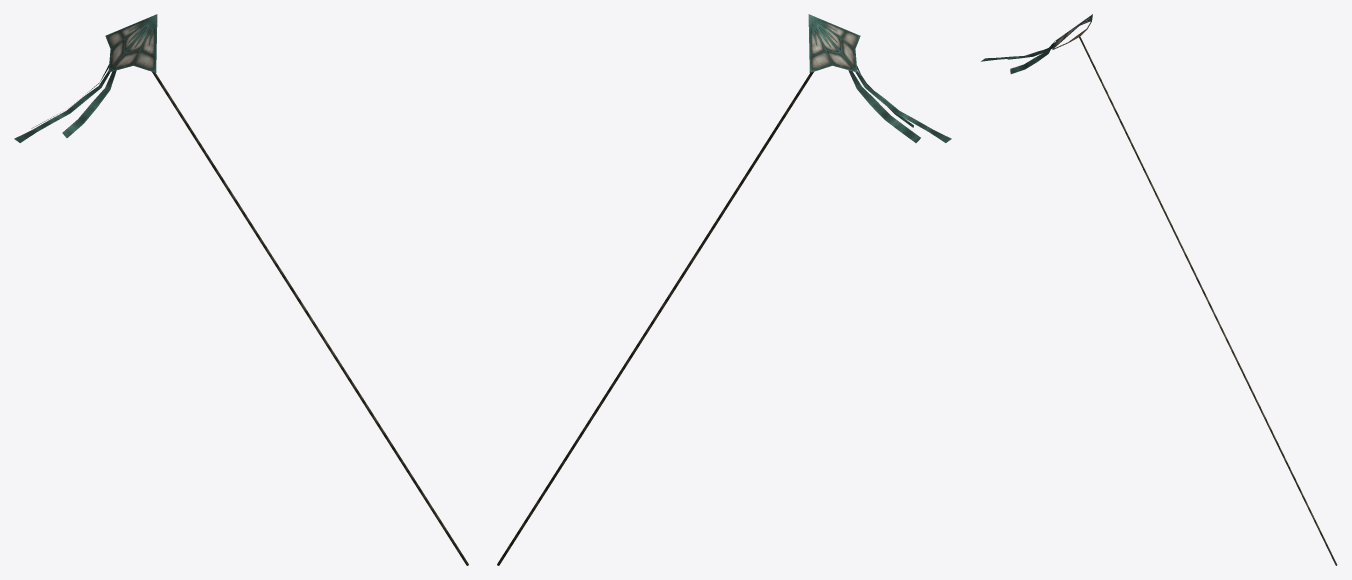
3 renders of one model, left to right at view 1: azimuth 30°, elevation 25°; view 2: azimuth 150°, elevation 25°; view 3: azimuth 330°, elevation 25°, orthographic. The views are drawn at different scales.
Bounding box in the file's own units: 37.14 × 49.29 × 7.25.
Materials: 1 (1 with a texture image).
